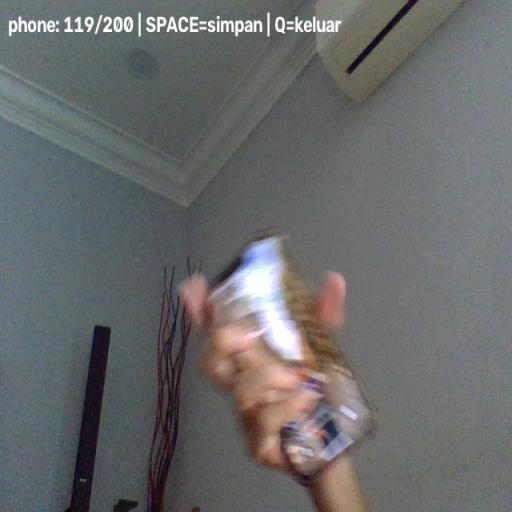Phone: (205, 228, 380, 483)
